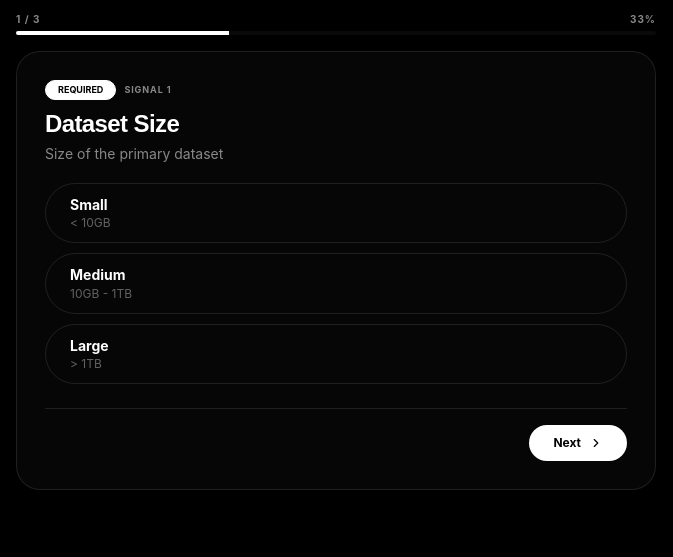
Test case: QuestionnaireForm — Skip Behavior › clicking same option deselects it (toggle)
Expected: the heading "Dataset Size" is shown, x1=45 y1=110 x2=179 y2=136
Click the text "Large". click: point(89, 345)
box: x1=70 y1=337 x2=109 y2=354
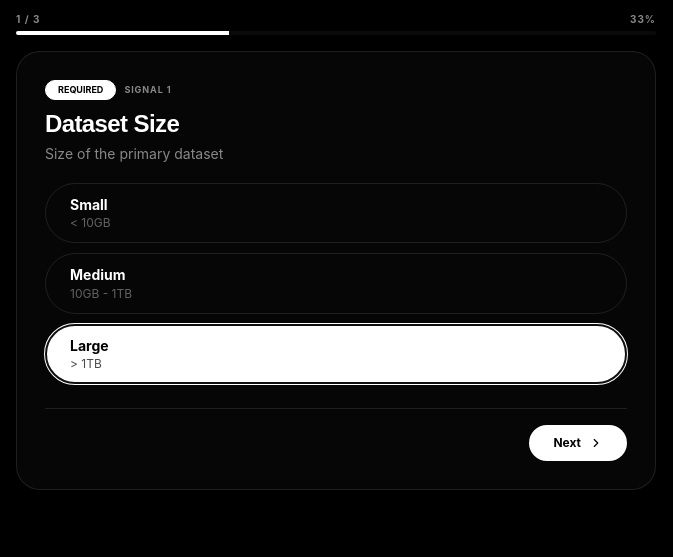
# Click again to deselect
Click the text "Large". click: point(89, 345)
box: x1=70 y1=337 x2=109 y2=354
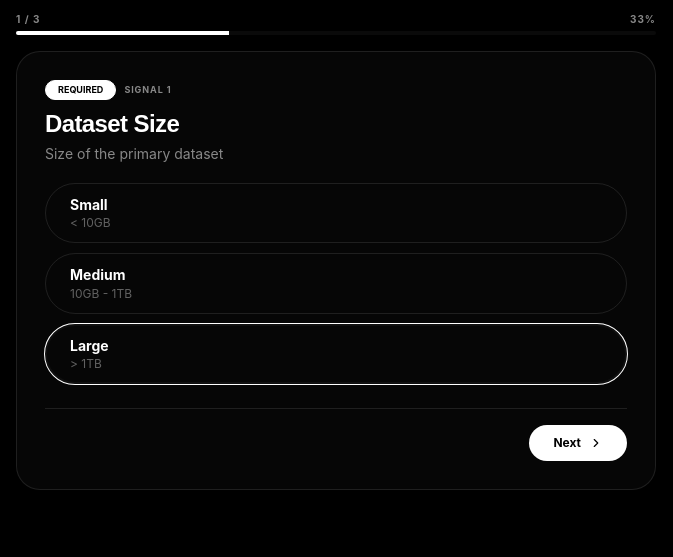
# Now Next should show error (required field unselected)
Click the button "Next". click: point(578, 443)
box: x1=529 y1=425 x2=627 y2=461
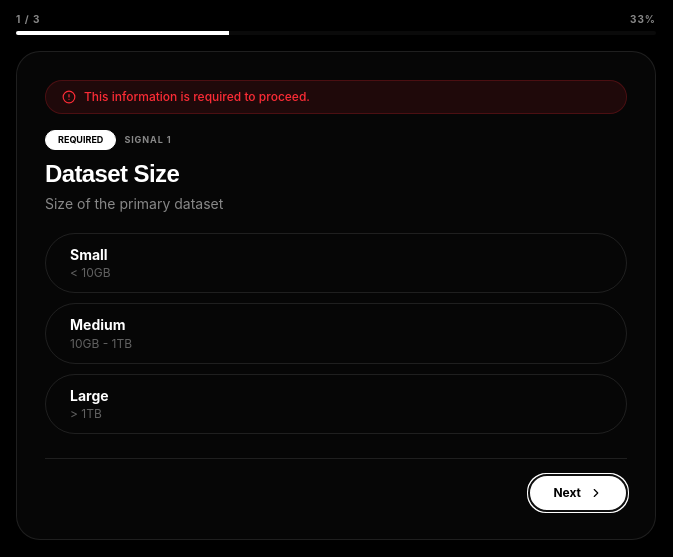
Expected: the text "This information is required to proceed." is shown, x1=84 y1=89 x2=310 y2=105
